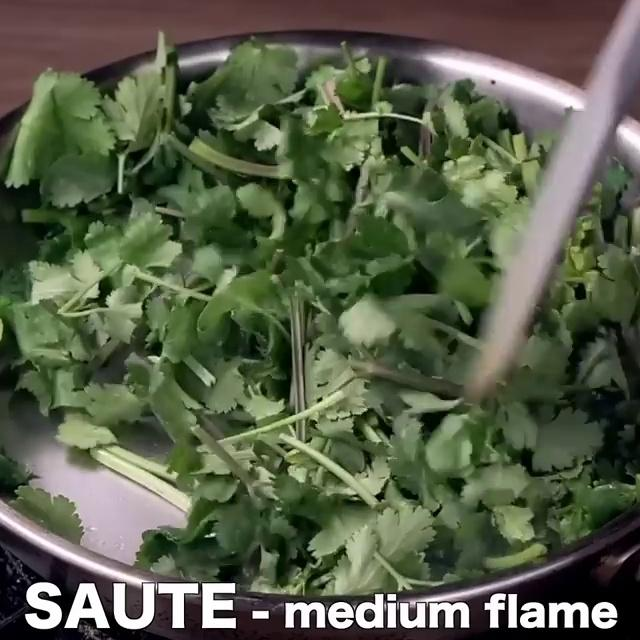cilantro: (27, 64, 487, 557)
